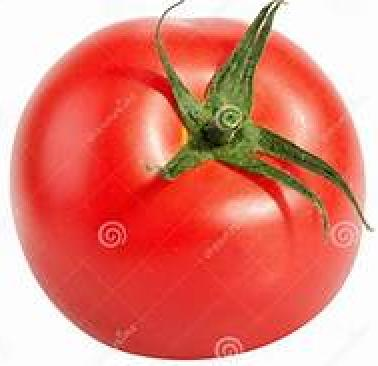tomato: (14, 15, 366, 354)
